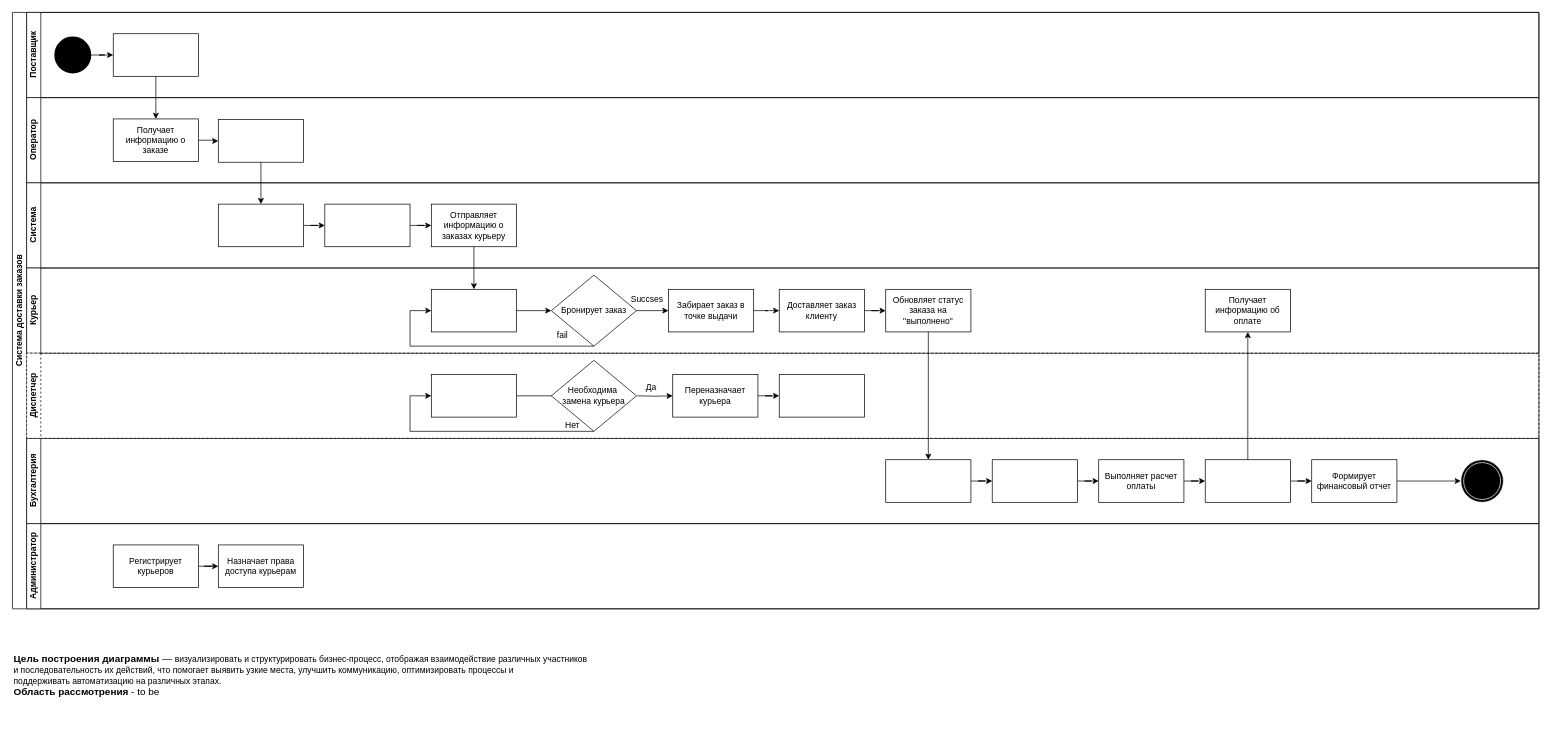
Some shapes in this 1551 by 748 pixel diagram are drawn without their labels. The shapes that lost their labels are listed below. From the top down, each one's centre as x and y in pixels, then its label:
At (x=155, y=54): "Предоставляет информацию о заказах".
At (x=261, y=140): "Вводит заказ в систему вручную".
At (x=261, y=225): "Хранит данные о заказах".
At (x=367, y=225): "Сохраняет заказ в базе данных".
At (x=474, y=310): "Просматривает доступные заказы".
At (x=474, y=395): "Контролирует выполнение заказов".
At (x=821, y=395): "Обновляет информацию о заказе".
At (x=928, y=480): "Получает информацию о доставке".
At (x=1034, y=480): "Выполняет учет".
At (x=1247, y=480): "Отправляет информацию о начисленной оплате курьерам".
